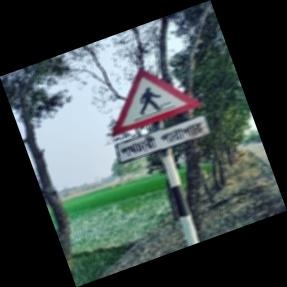Pedestrian-crossing: (111, 67, 209, 165)
